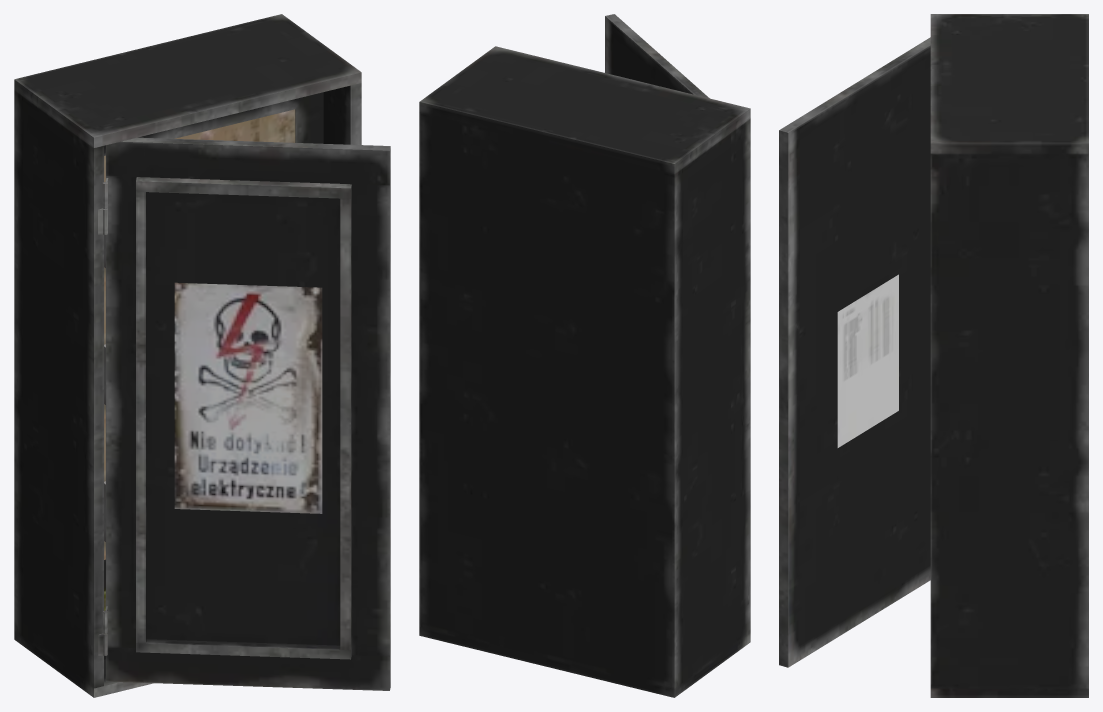
File: electrical_switchboard.glb
The picture shows the model from 3 angles, left to right: view 1: azimuth 30°, elevation 25°; view 2: azimuth 150°, elevation 25°; view 3: azimuth 270°, elevation 25°; orthographic projection. The views are drawn at different scales.
Visible parts, largest first — view 1: door, body, descriptionFront, mainSwithc; view 2: body, door; view 3: body, door, description.
Part boxes in pixels (bbox=[...]): door: bbox=[102, 137, 390, 690]; body: bbox=[14, 14, 361, 697]; descriptionFront: bbox=[174, 282, 322, 513]; mainSwithc: bbox=[104, 109, 295, 559]; body: bbox=[419, 46, 750, 697]; door: bbox=[605, 14, 709, 98]; body: bbox=[930, 14, 1088, 697]; door: bbox=[779, 37, 930, 667]; description: bbox=[837, 274, 898, 447].
Bounding box in the file's own units: 0.3808 × 0.7613 × 0.3853.
1 material, 1 textured.
